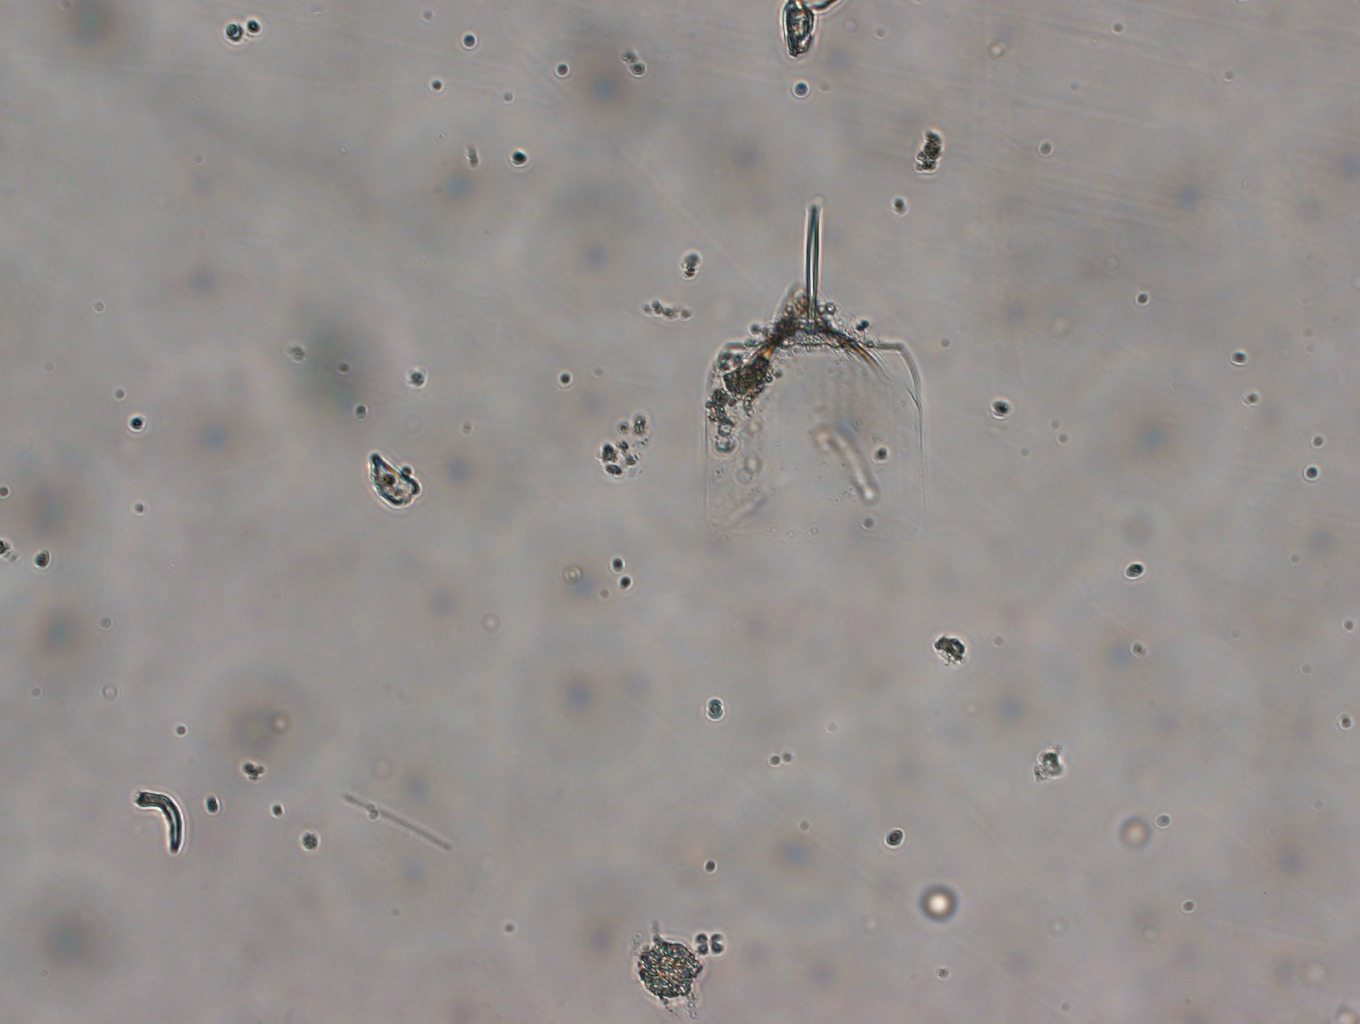ditylum: (695, 177, 932, 547)
